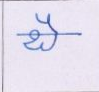ai_matra: (36, 13, 59, 32)
